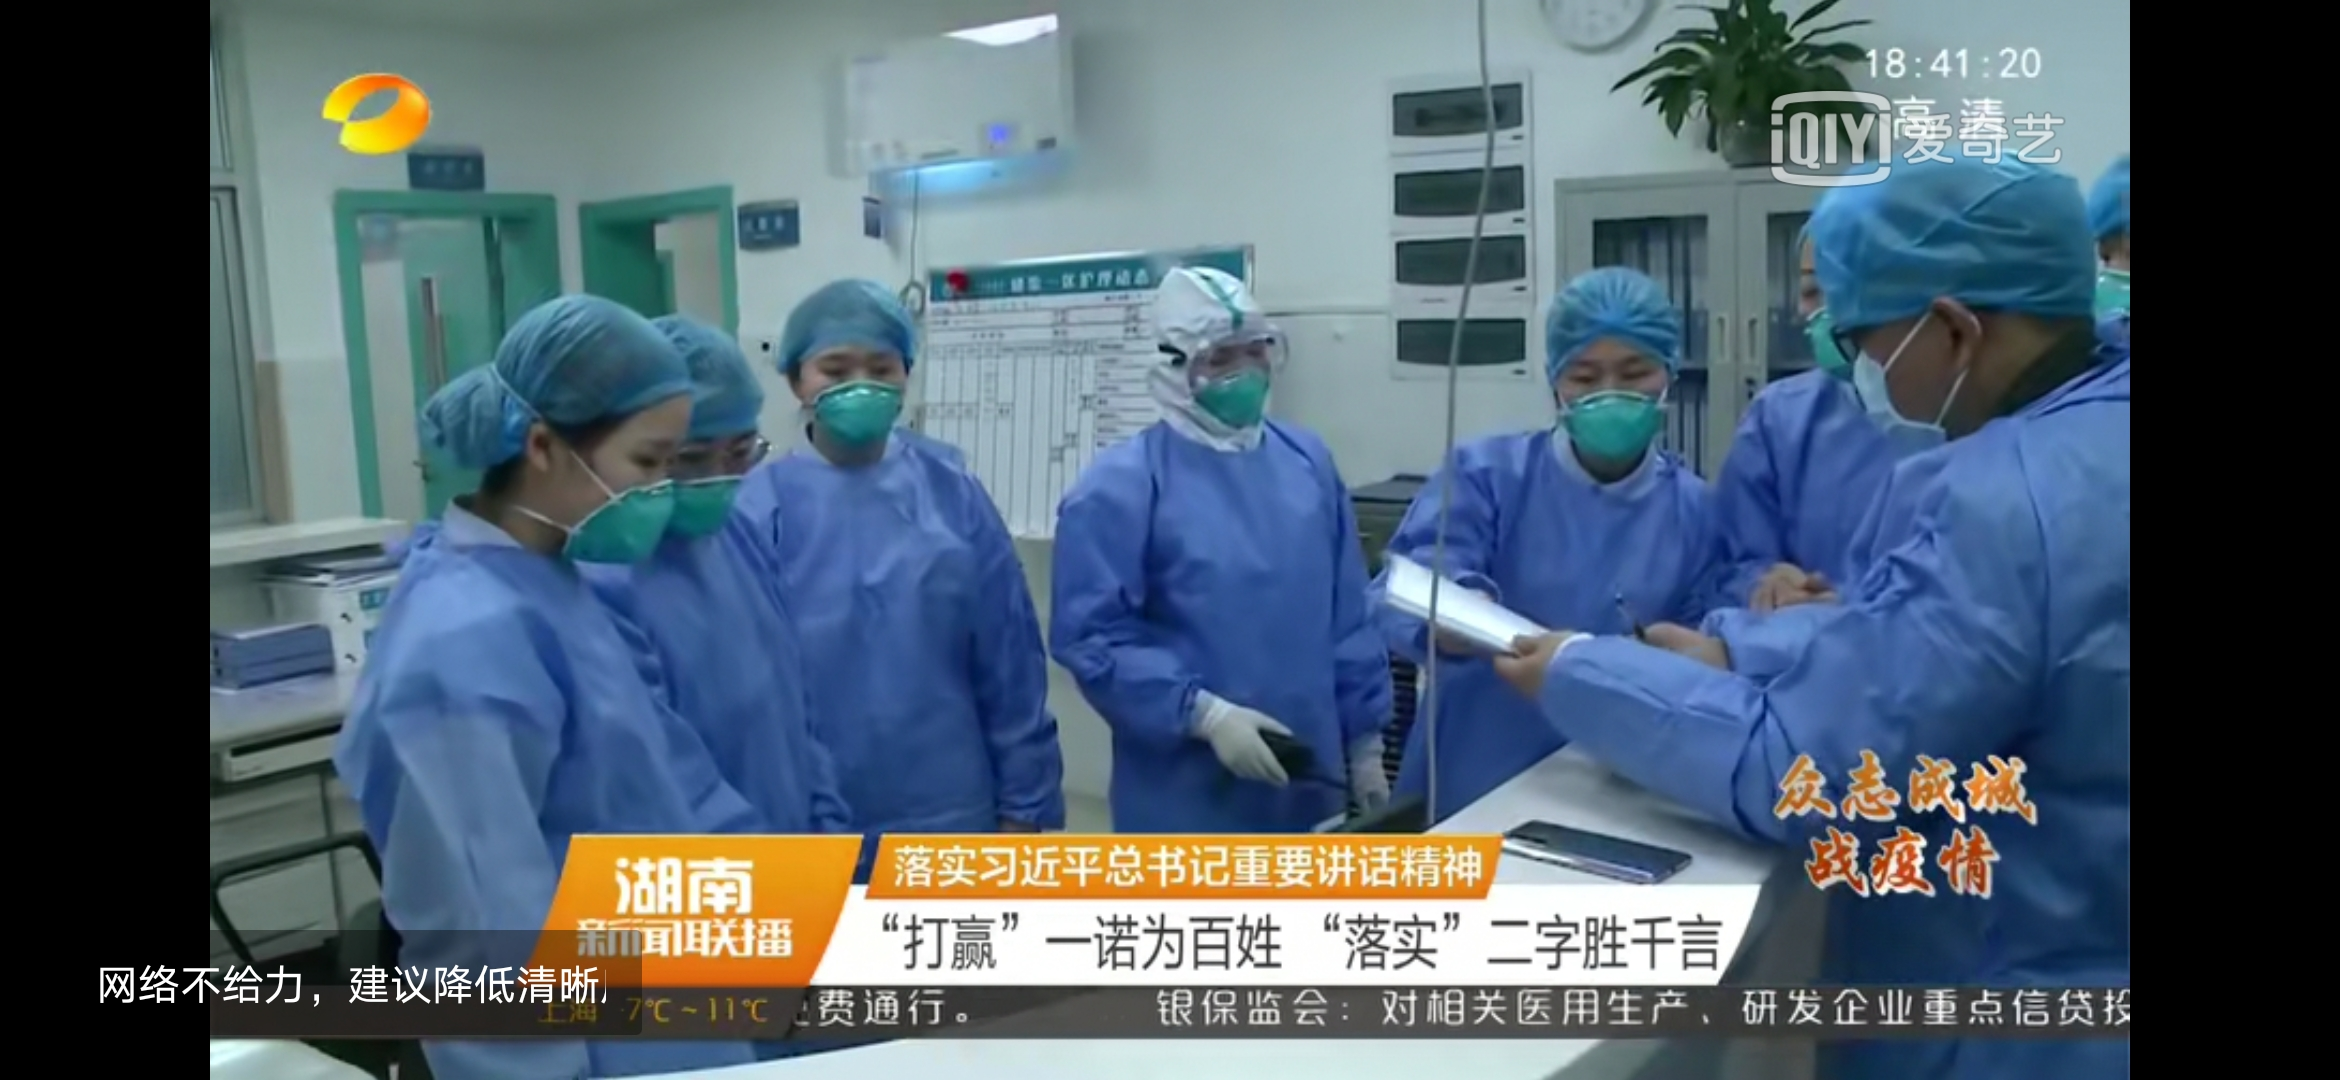correctlyWear: (519, 403, 681, 573), (1833, 292, 1982, 458), (788, 324, 916, 459), (675, 386, 778, 536), (1551, 348, 1671, 465), (1174, 328, 1280, 434), (1786, 263, 1855, 374), (2086, 234, 2130, 373)
